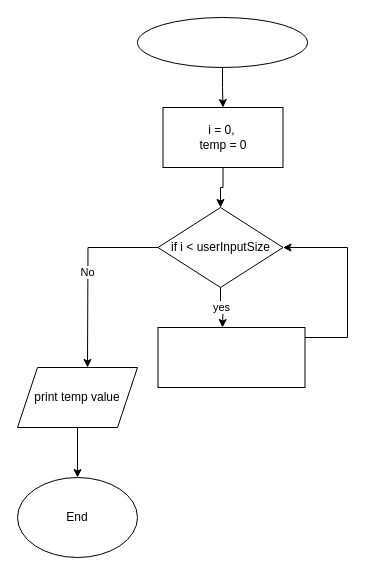
The diagram is 373 pixels wide and 575 high, and some of its shapes have lost their labels. Each missing label, with the centre of its shape:
START: point (222, 42)
temp = temp + userInput i = i +1: point (231, 357)
